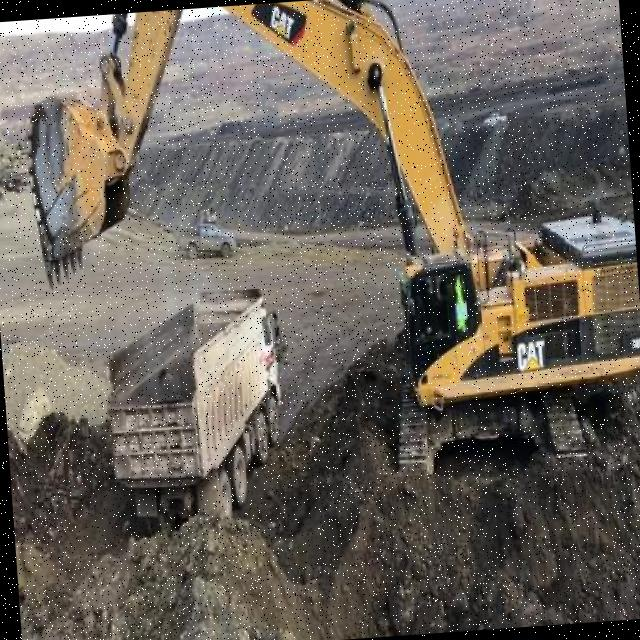Dump Truck: (90, 275, 293, 535)
Excavator: (17, 0, 640, 504)
